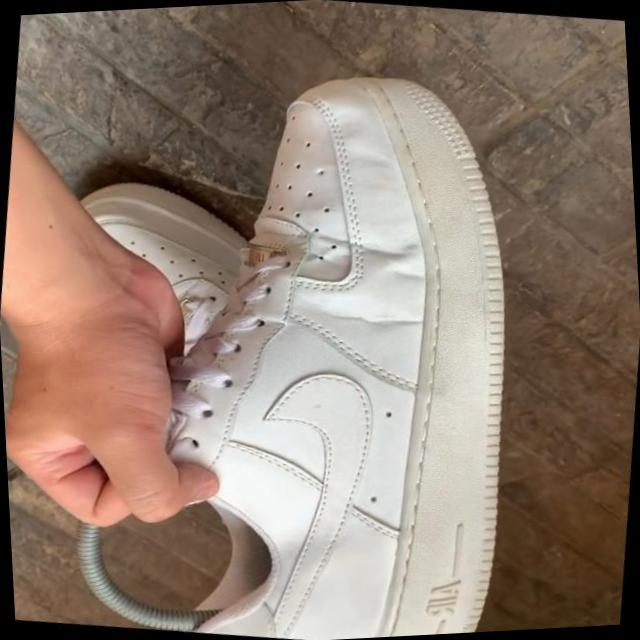nike_fake_airforce: (51, 37, 567, 640)
